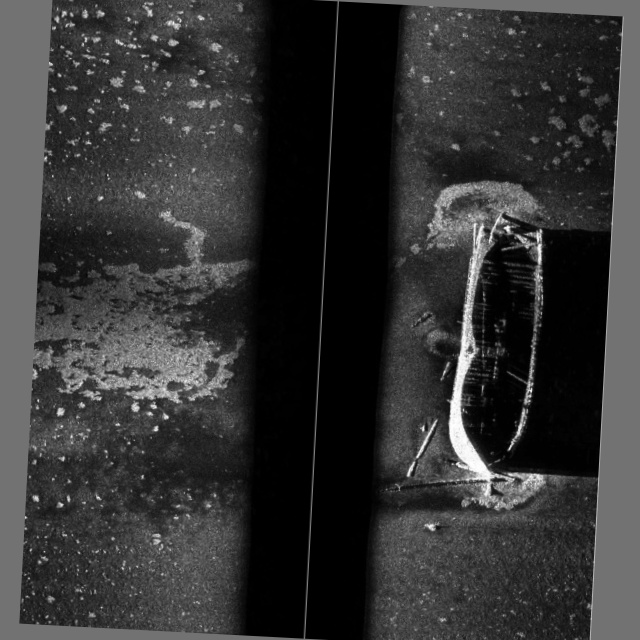Shipwreck: (382, 208, 547, 512)
